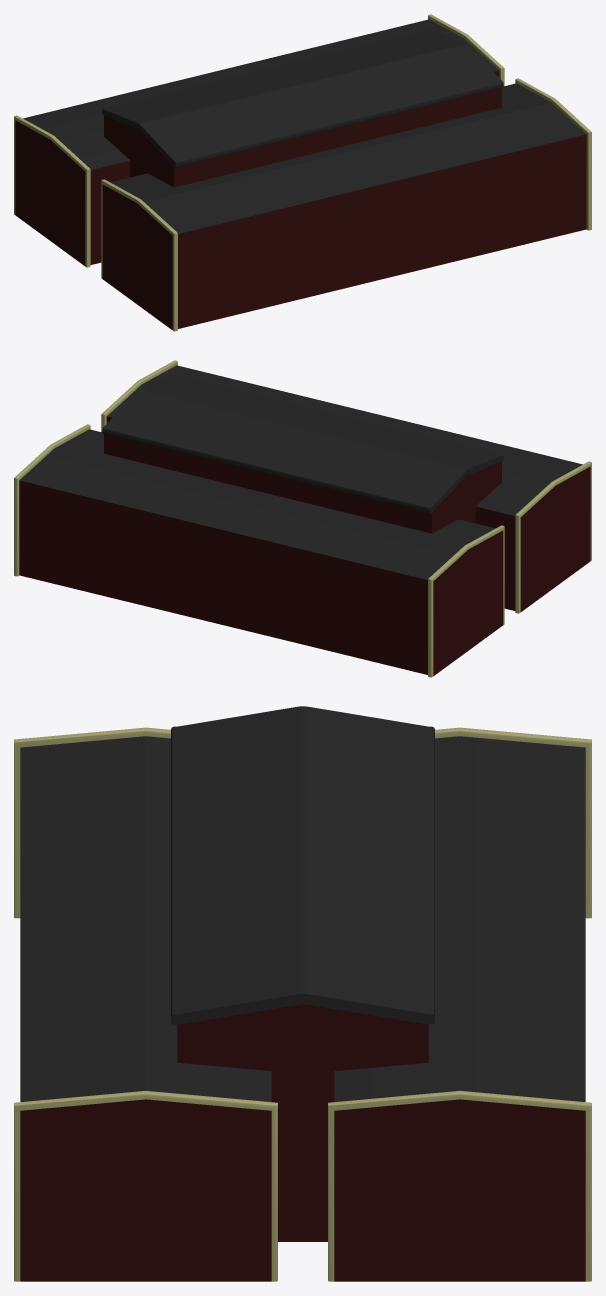
The picture shows the model from 3 angles, top to bottom: view 1: azimuth 30°, elevation 25°; view 2: azimuth 150°, elevation 25°; view 3: azimuth 270°, elevation 25°; orthographic projection. The views are drawn at different scales.
Parts seen in each view (by area): view 1: pCube2, pCube1, pCube3; view 2: pCube3, pCube1, pCube2; view 3: pCube2, pCube3, pCube1.
Part boxes in pixels (bbox=[...]): pCube2: bbox=[101, 78, 591, 331]; pCube1: bbox=[102, 29, 503, 187]; pCube3: bbox=[14, 14, 504, 267]; pCube3: bbox=[14, 424, 504, 677]; pCube1: bbox=[102, 375, 503, 533]; pCube2: bbox=[101, 360, 591, 613]; pCube2: bbox=[14, 727, 277, 1281]; pCube3: bbox=[328, 727, 591, 1281]; pCube1: bbox=[171, 706, 434, 1241].
Bounding box in the file's own units: 13.81 × 4.36 × 9.2.
